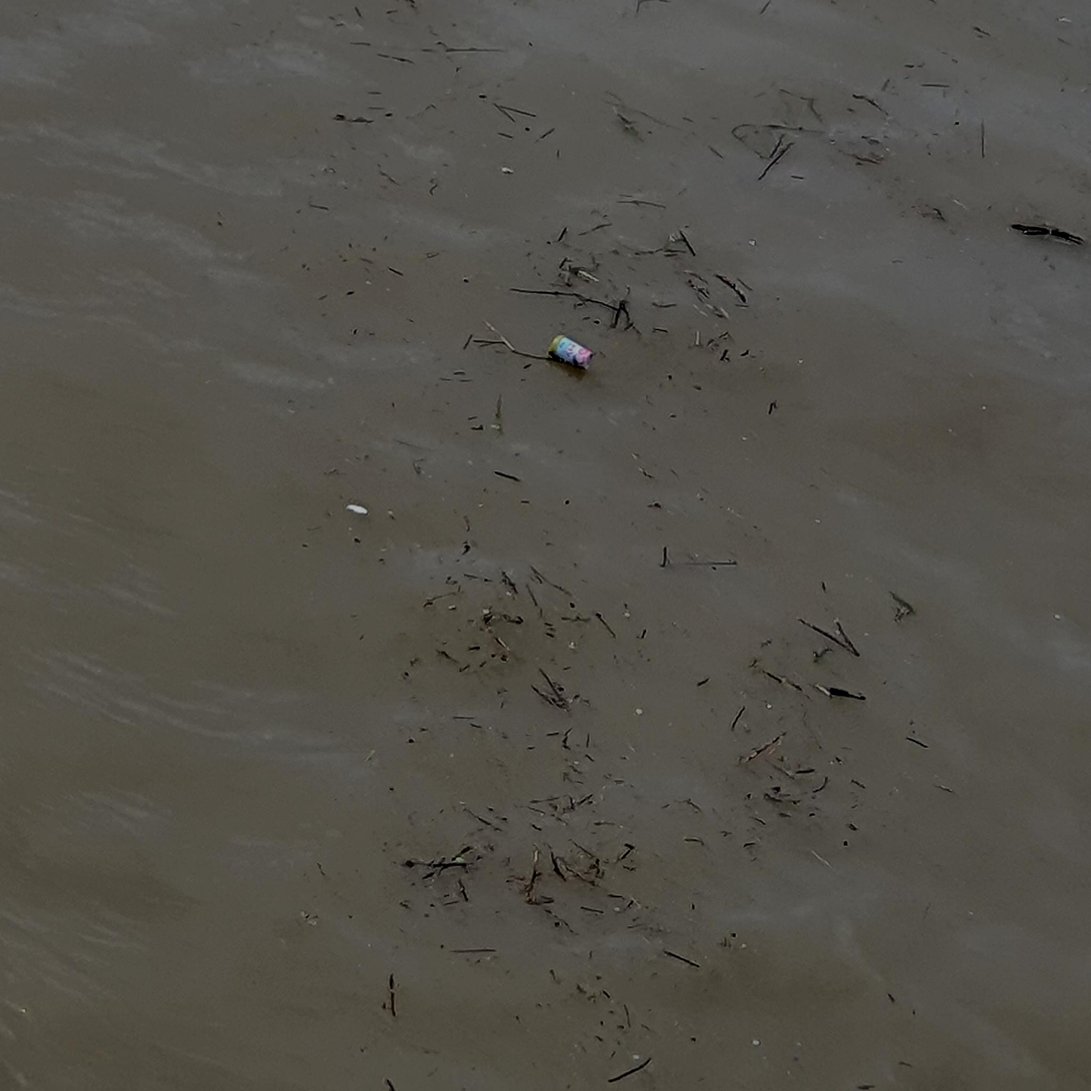sampah_terapung: (549, 335, 593, 370)
